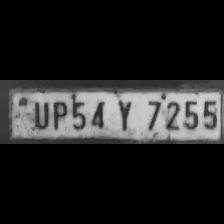2: (160, 98, 180, 132)
4: (86, 97, 110, 130)
5: (67, 97, 87, 130), (180, 97, 198, 130), (200, 97, 218, 130)
7: (138, 97, 162, 133)
P: (48, 98, 68, 130)
U: (28, 97, 50, 129)
Y: (111, 97, 137, 132)
